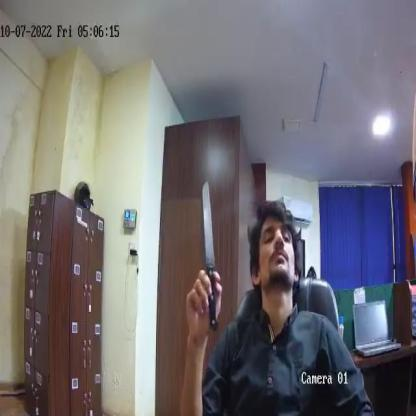Knife: (199, 179, 220, 329)
